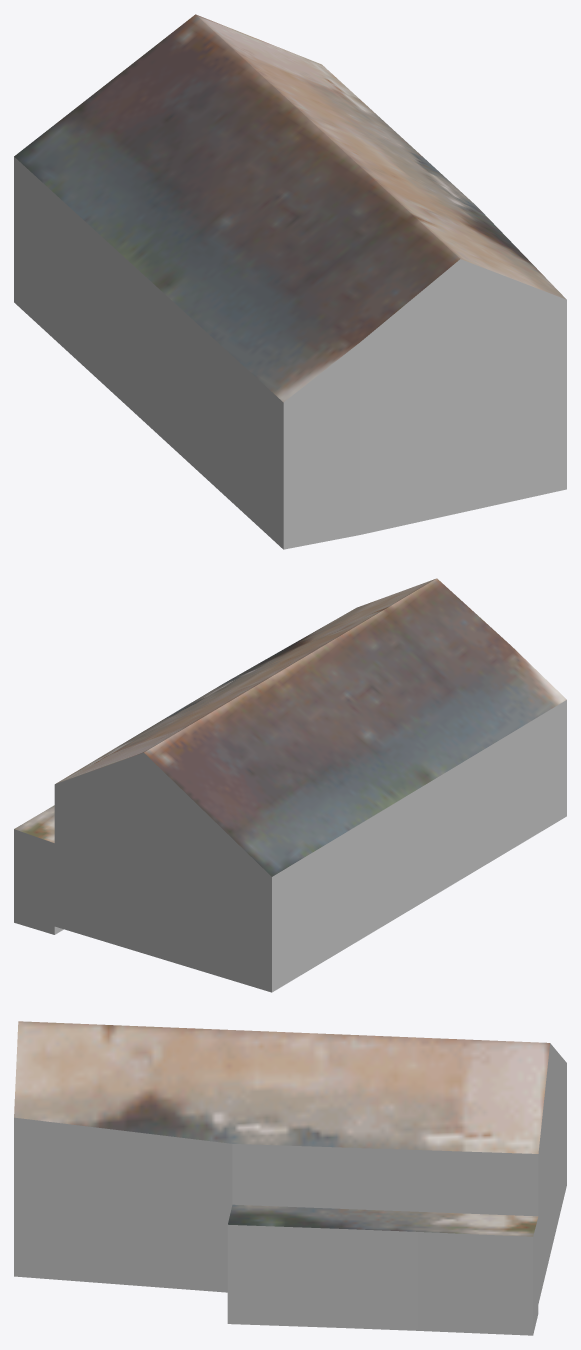
Rendered from DEBW_0010007Tx7n.gltf.
The picture shows the model from 3 angles, top to bottom: view 1: azimuth 30°, elevation 25°; view 2: azimuth 150°, elevation 25°; view 3: azimuth 270°, elevation 25°; orthographic projection. The views are drawn at different scales.
Parts seen in each view (by area): view 1: Z_UP; view 2: Z_UP; view 3: Z_UP.
Part boxes in pixels (bbox=[...]): Z_UP: bbox=[14, 14, 566, 549]; Z_UP: bbox=[14, 578, 566, 992]; Z_UP: bbox=[14, 1021, 566, 1335].
Bounding box in the file's own units: 16.56 × 10.56 × 23.85.
Materials: 2 (1 with a texture image).
